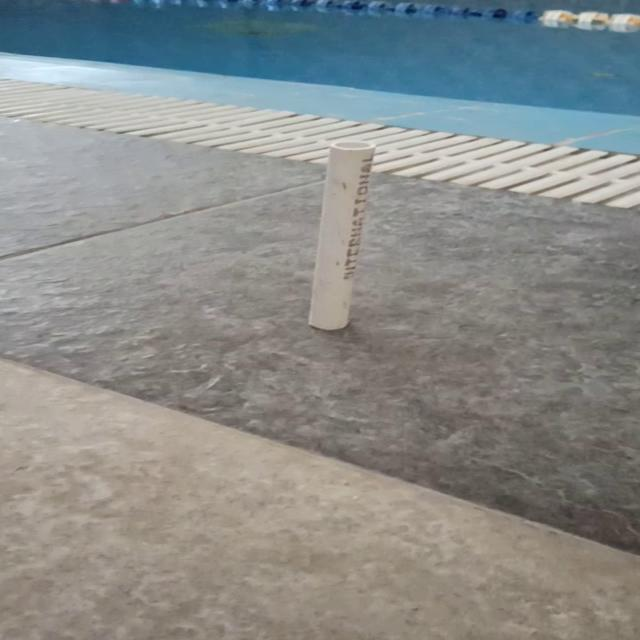Cube: (305, 140, 376, 330)
